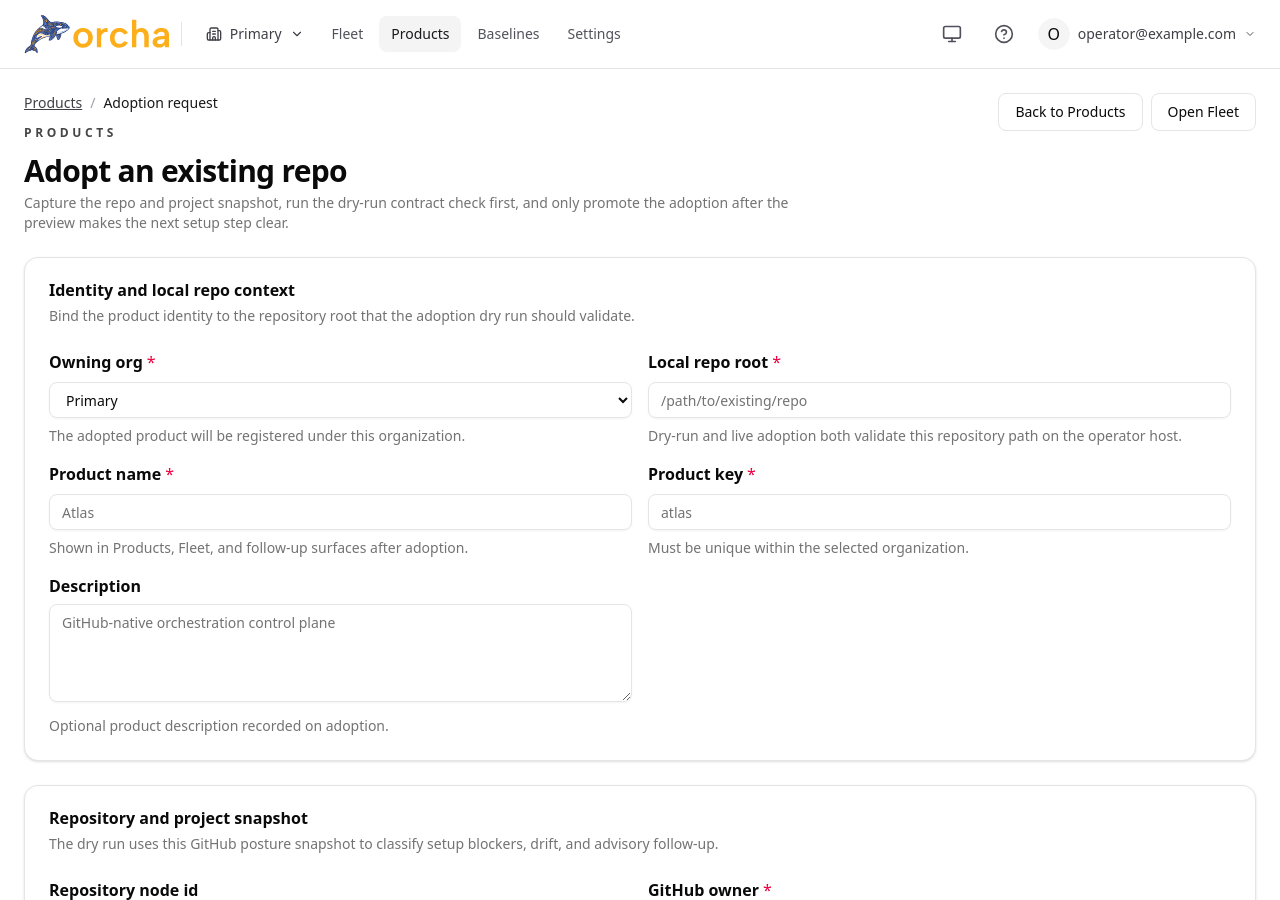
Test: App › routes a dry-run adoption into the review surface with blockers, drift, and advisory diagnostics
The width and height of the screenshot is (1280, 900).
Expected: the heading "Adopt an existing repo" is shown, [24,150,347,191]
Type "/Users/tyler/Git/aegroup/nimbus" into the field labelled "Local repo root". click: (940, 400)
box: [648,382,1231,418]
(page scrolled)
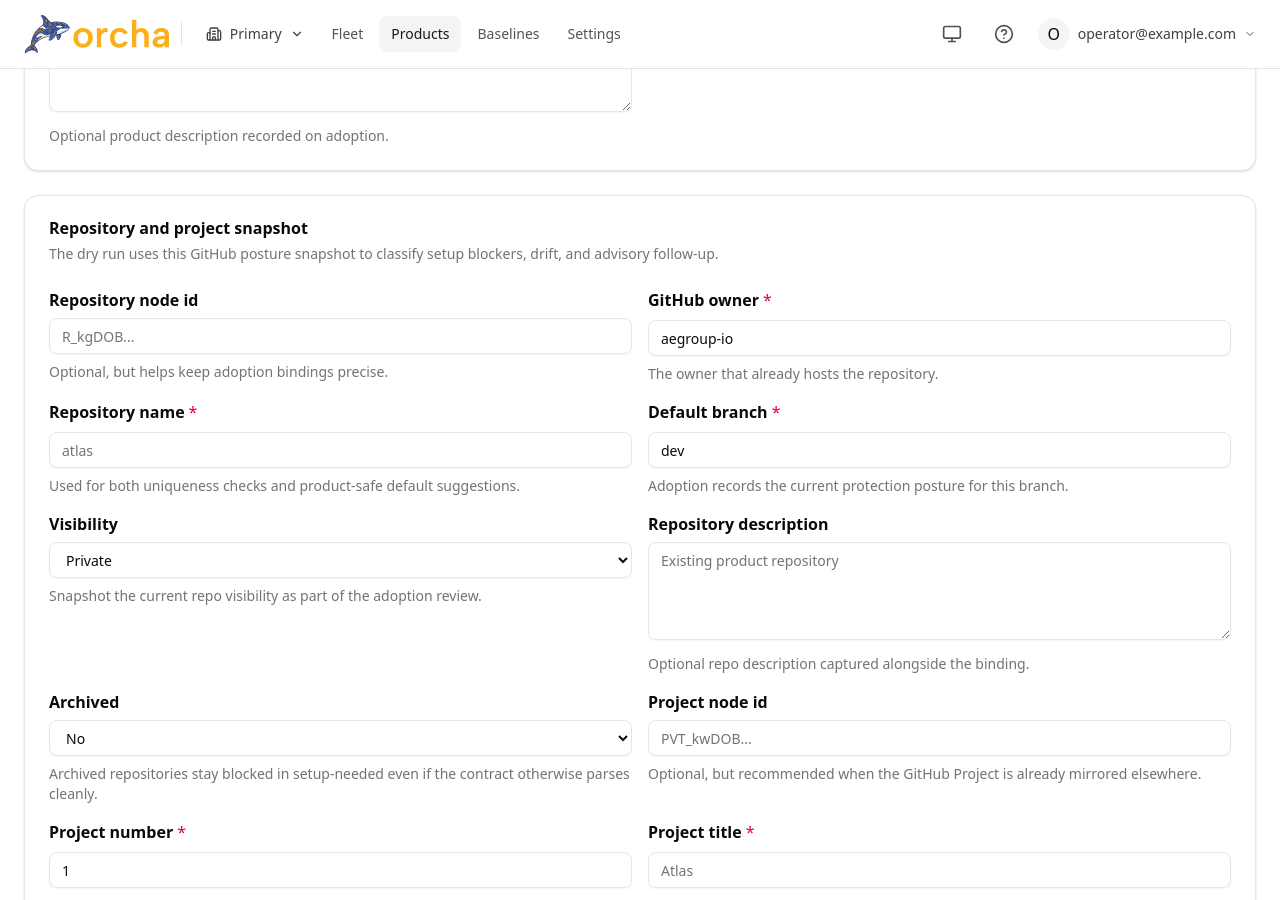
Type "nimbus" into the field labelled "Repository name". click: (340, 450)
box: [49,432,632,468]
(page scrolled)
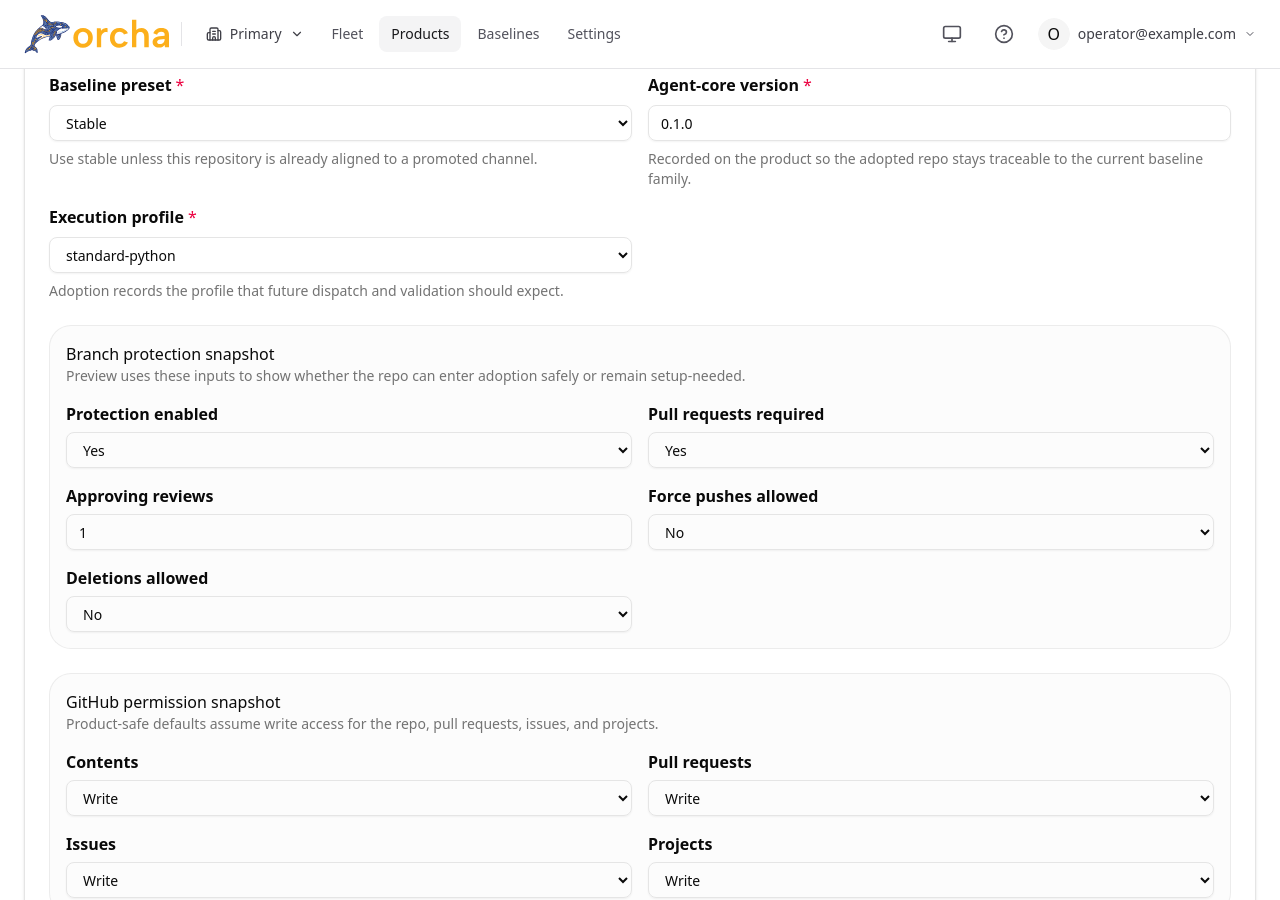
Select "No" in the dropdown labelled "Protection enabled". click: (349, 450)
box: [66,432,632,468]
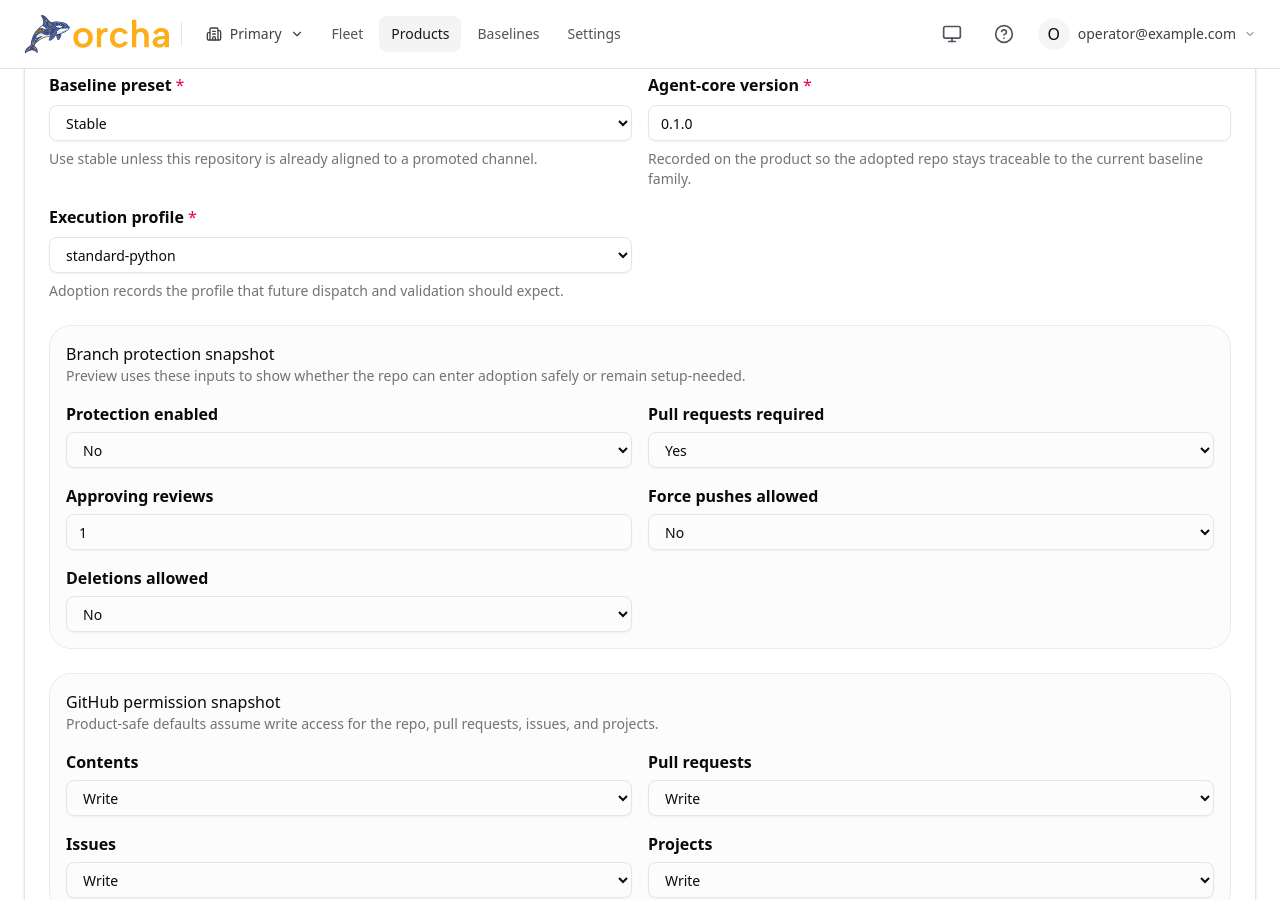
Select "Yes" in the dropdown labelled "Force pushes allowed". click: (931, 532)
box: [648,514,1214,550]
(page scrolled)
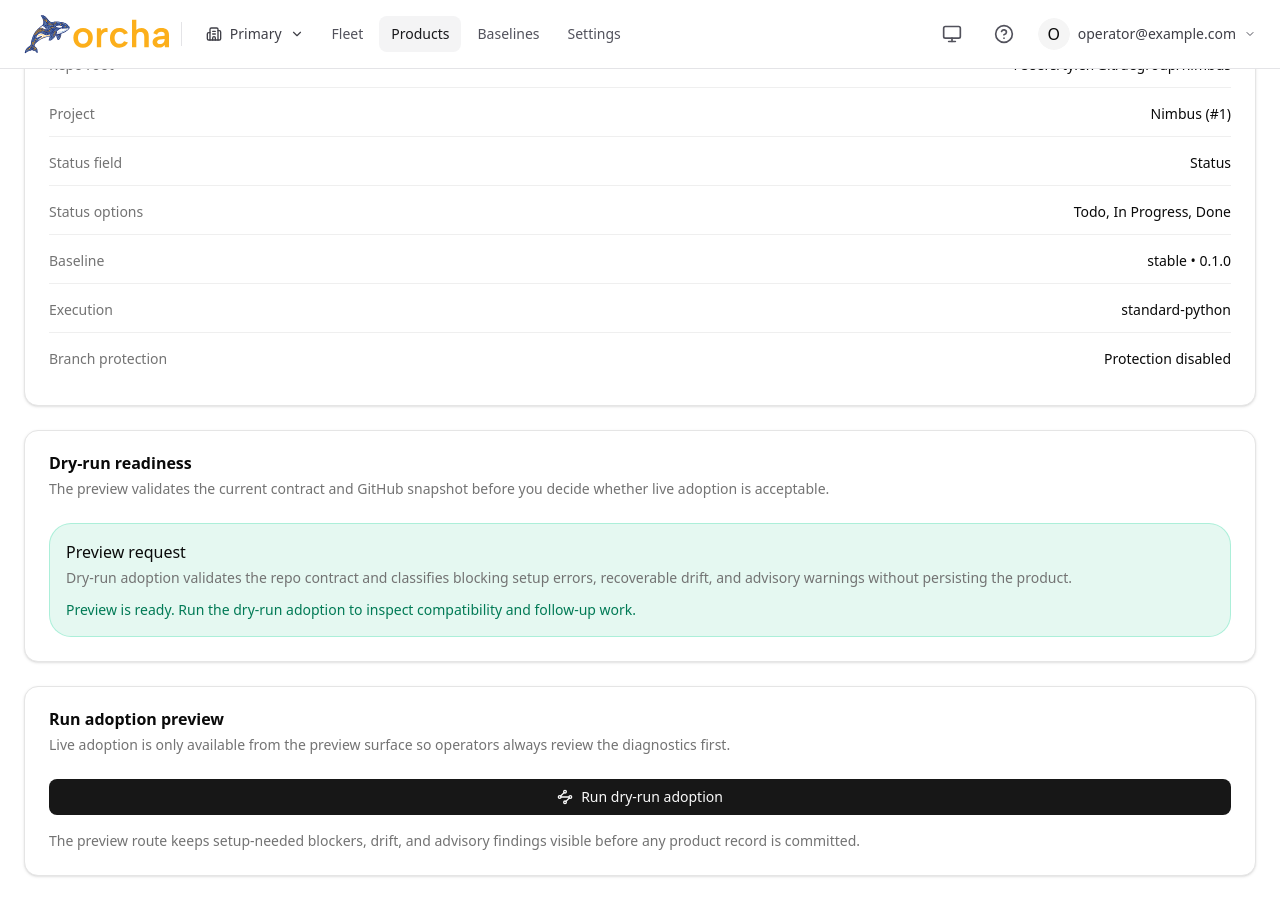
Click the button "Run dry-run adoption". click: (640, 797)
box: [49,779,1231,815]
(page scrolled)
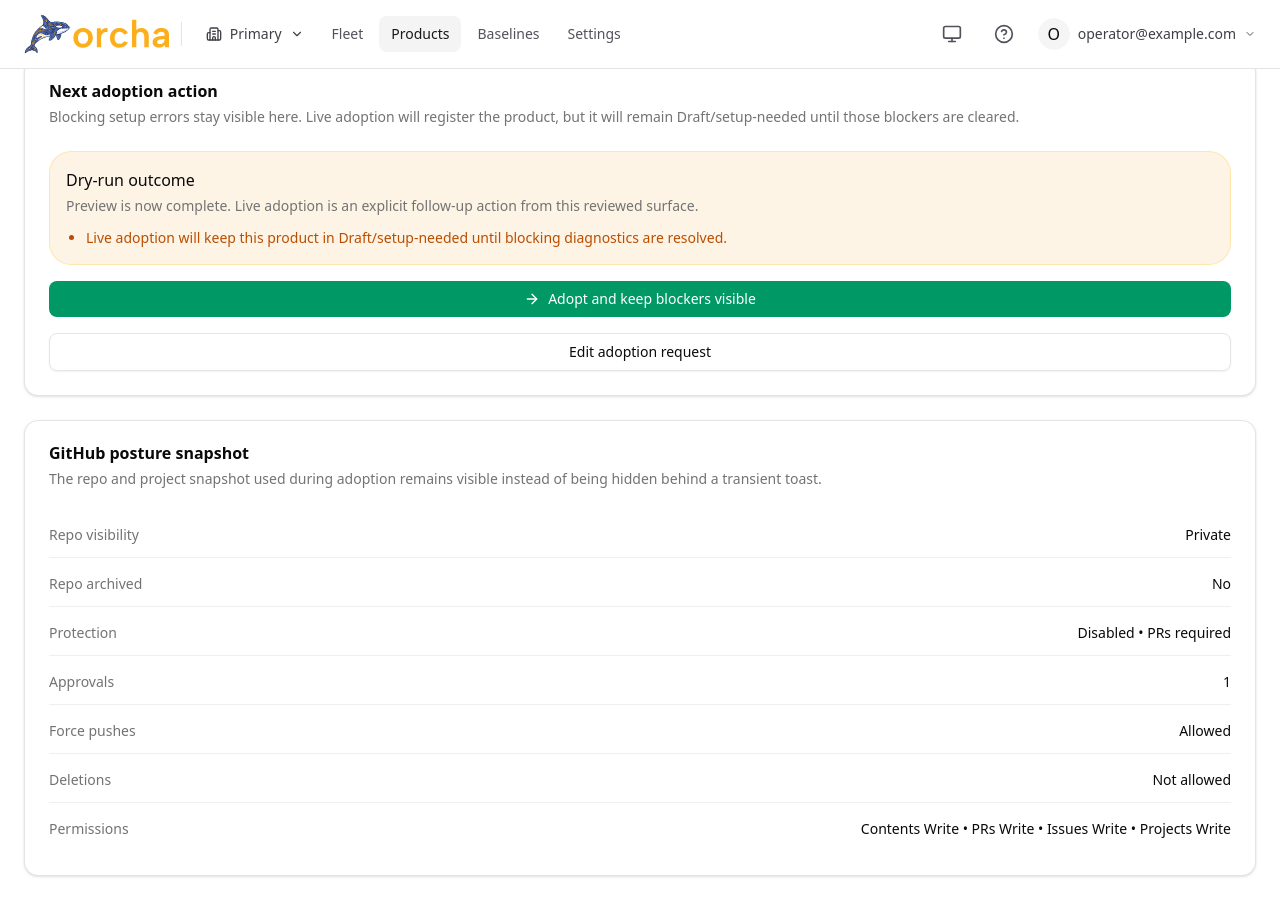
Now the button "Adopt and keep blockers visible" is shown, box [49,281,1231,317]
